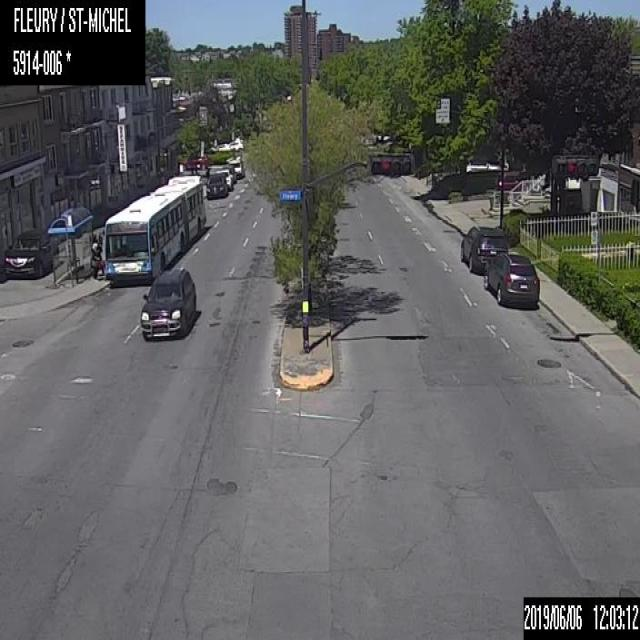bus: (101, 175, 206, 287)
pedestrian: (89, 232, 102, 277)
vehicle: (138, 266, 198, 341), (485, 251, 540, 308), (2, 226, 57, 279), (457, 222, 509, 274), (206, 171, 228, 198), (217, 162, 236, 188), (226, 156, 242, 180), (184, 150, 206, 167)
